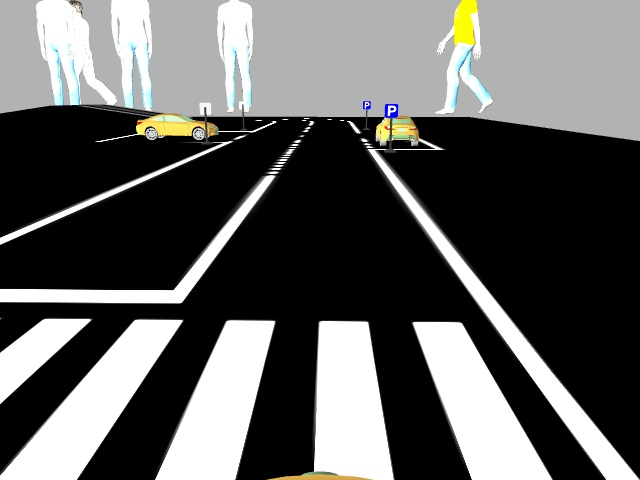Parking: (384, 103, 398, 118), (361, 99, 370, 108)
